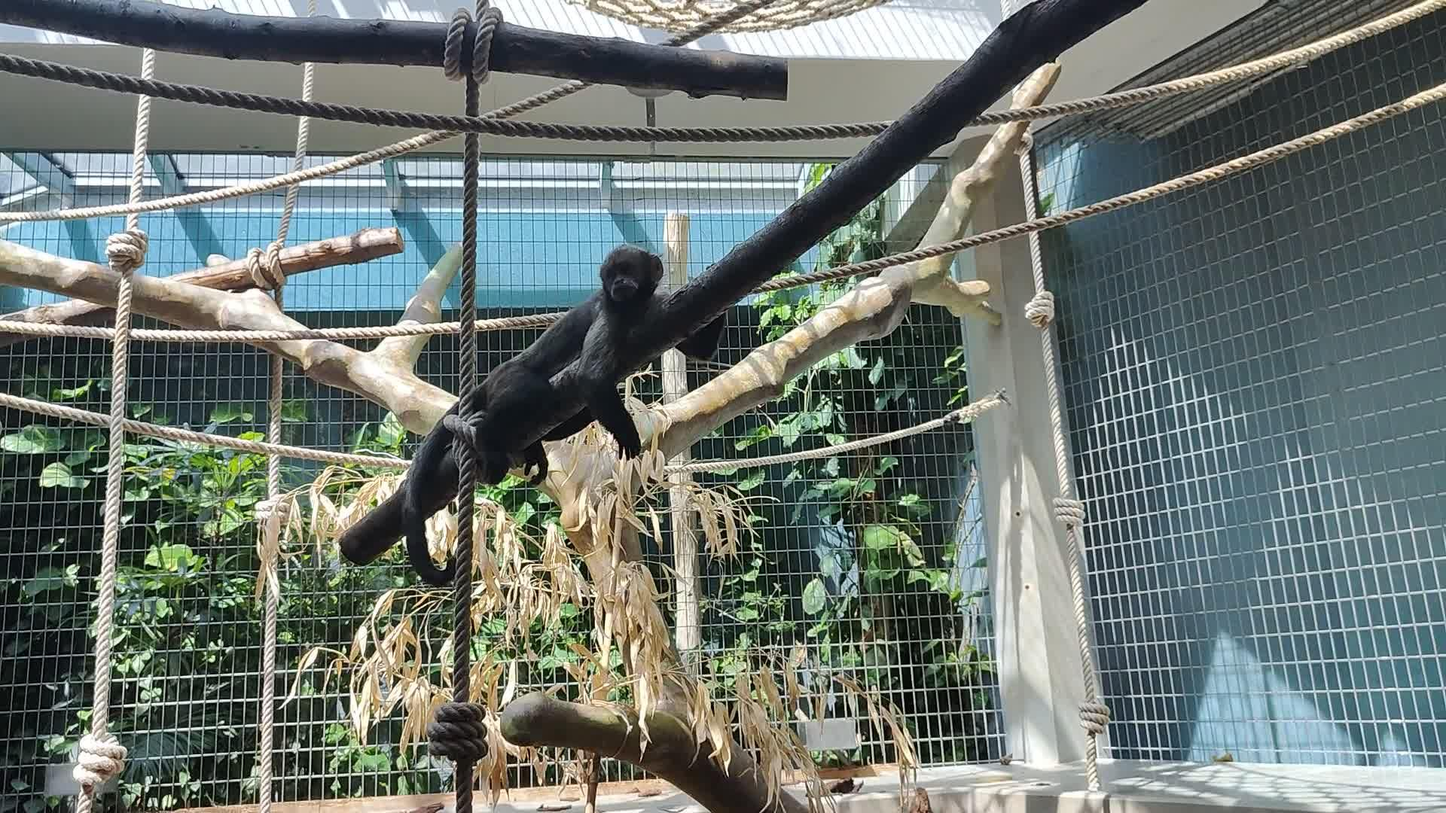boar: (404, 243, 726, 588)
